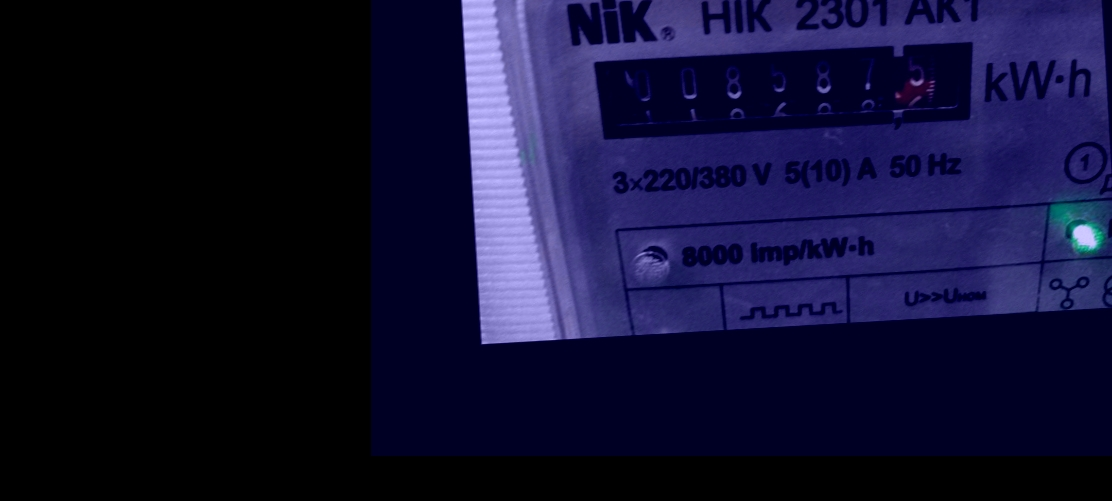0: (676, 62, 702, 104)
1: (630, 65, 656, 107)
5: (905, 50, 931, 92), (767, 58, 792, 98)
7: (856, 54, 881, 96)
8: (720, 62, 747, 104), (812, 57, 835, 99)
screen: (574, 21, 998, 164)
